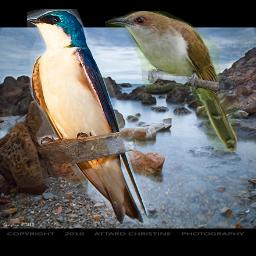Cuckoo: (105, 11, 237, 152)
Swallow: (27, 9, 149, 225)
